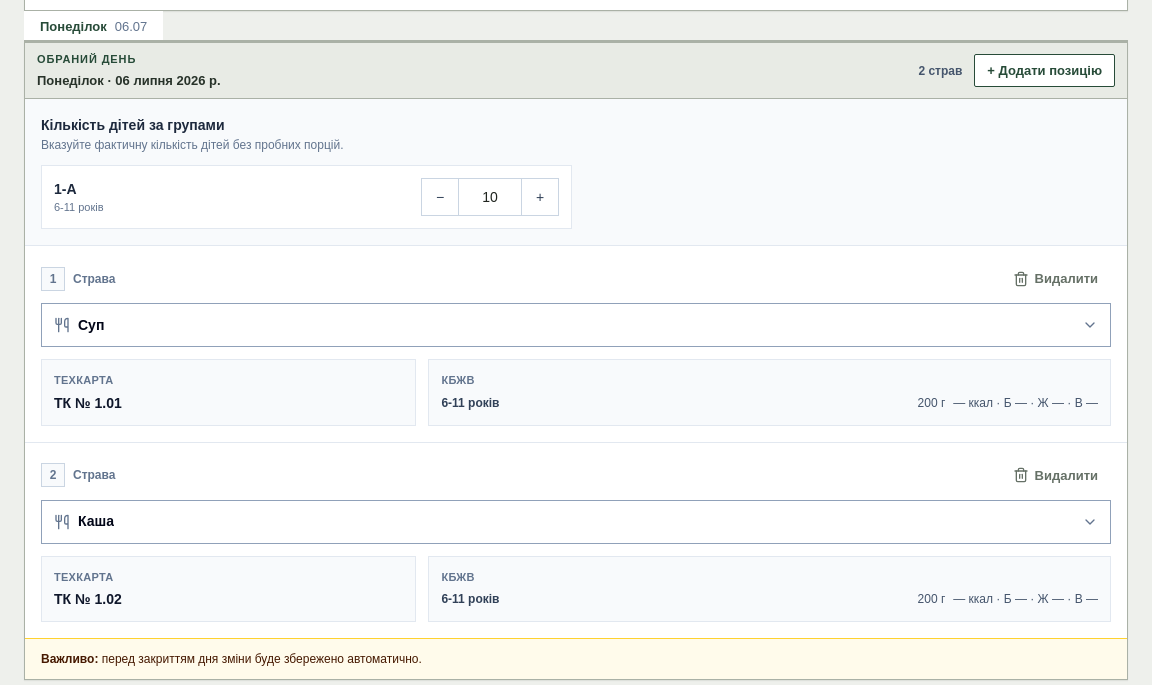
Scenario: daily menu draft and day closure › accepts the current draft version in the daily menu
The image size is (1152, 685).
(page scrolled)
Click the button "Суп". click: point(62, 325)
box: top-left (41, 303), bottom-right (1111, 347)
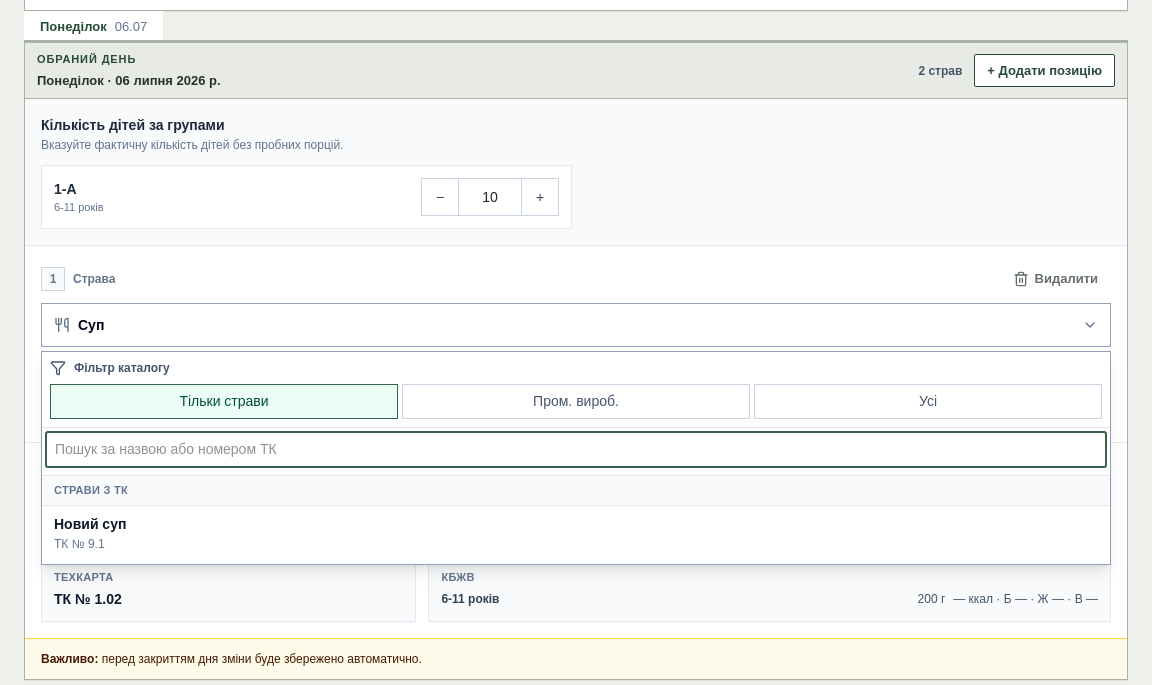
Click the option "Новий суп ТК № 9.1". click: point(90, 524)
box: top-left (42, 506), bottom-right (1110, 560)
(page scrolled)
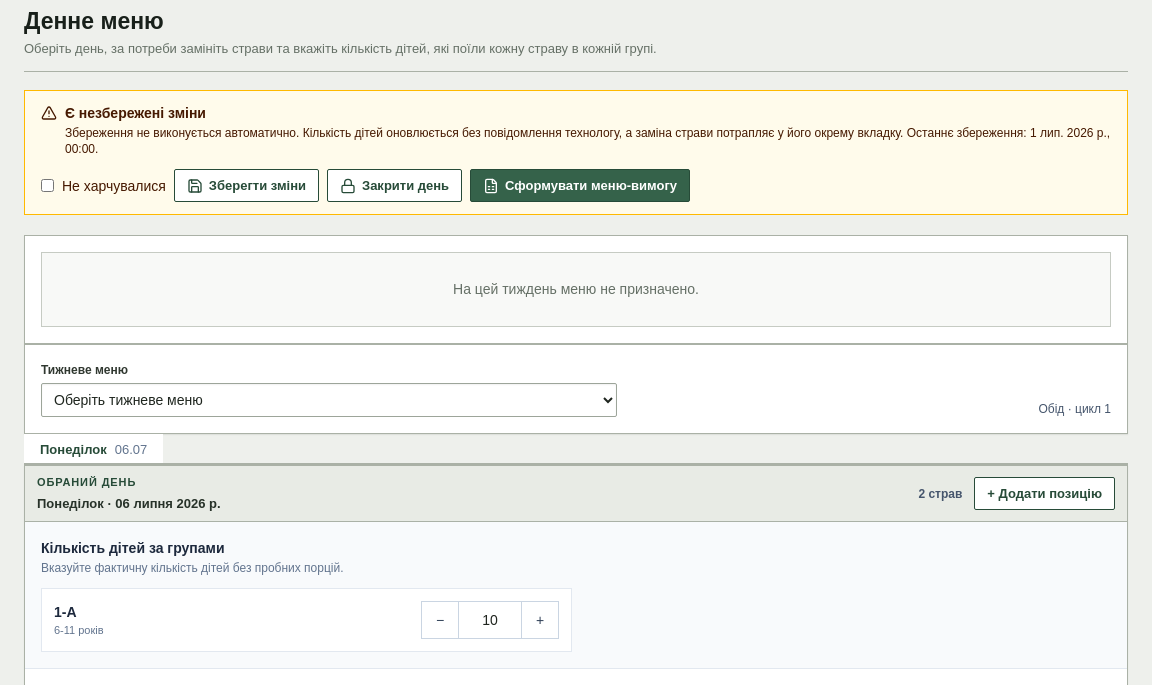
Expected: the text "Є незбережені зміни" is shown, top-left (65, 105), bottom-right (206, 121)
